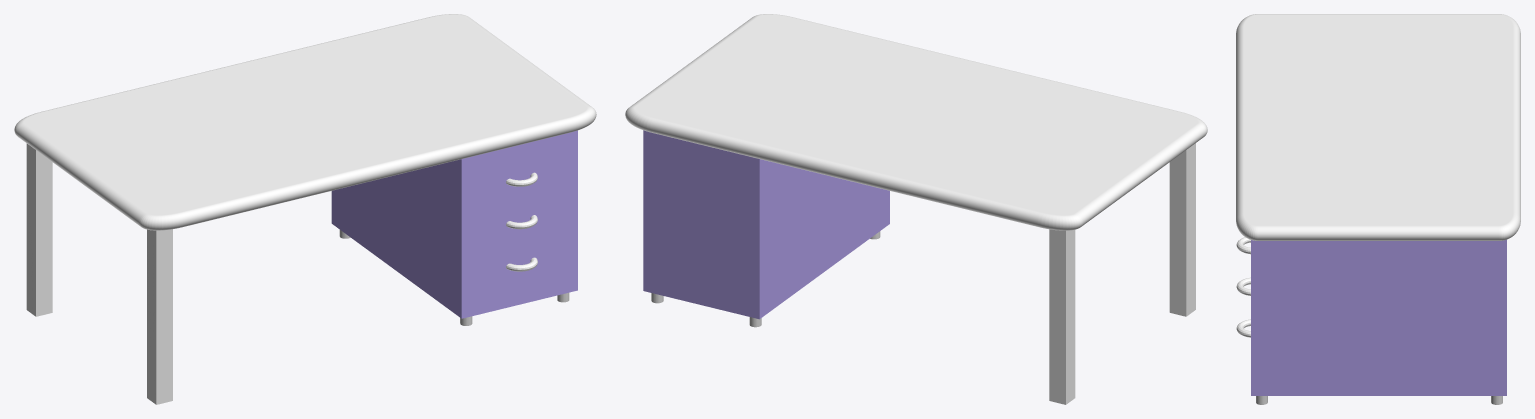
File: tableCute 1.fbx
The picture shows the model from 3 angles, left to right: view 1: azimuth 30°, elevation 25°; view 2: azimuth 150°, elevation 25°; view 3: azimuth 270°, elevation 25°; orthographic projection.
Visible parts, largest first — view 1: Cube.008, 큐브.024, 큐브.022, 큐브.023; view 2: Cube.008, 큐브.024, 큐브.023, 큐브.022; view 3: Cube.008, 큐브.024.
Boxes of the visible parts, bbox=[...] form: Cube.008: bbox=[14, 14, 596, 230]; 큐브.024: bbox=[331, 130, 577, 318]; 큐브.022: bbox=[147, 229, 172, 404]; 큐브.023: bbox=[26, 143, 52, 316]; Cube.008: bbox=[625, 14, 1207, 230]; 큐브.024: bbox=[643, 130, 889, 319]; 큐브.023: bbox=[1049, 229, 1075, 404]; 큐브.022: bbox=[1169, 143, 1195, 316]; Cube.008: bbox=[1236, 14, 1520, 240]; 큐브.024: bbox=[1251, 239, 1506, 395].
Size of the model in its own units: 171 by 68.06 by 94.02.
